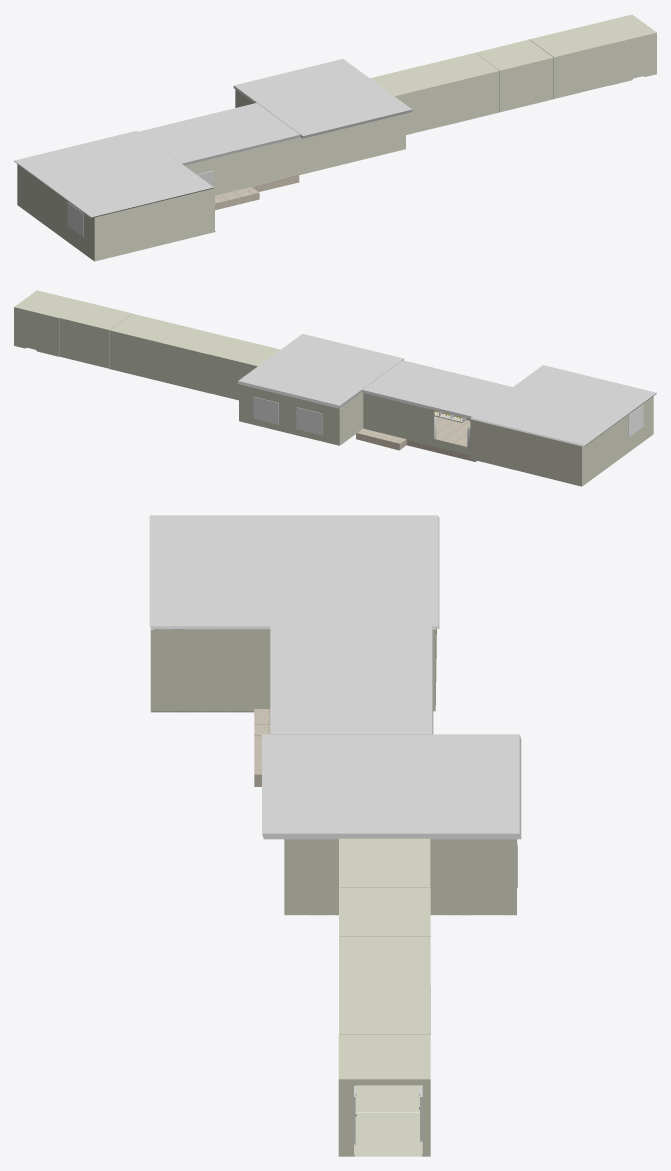
The picture shows the model from 3 angles, top to bottom: view 1: azimuth 30°, elevation 25°; view 2: azimuth 150°, elevation 25°; view 3: azimuth 270°, elevation 25°; orthographic projection. The views are drawn at different scales.
Parts seen in each view (by area): view 1: Plane.007, Plane.003, Plane.010, Plane.009, Plane.006, Cube.169, Cube.174, Cube.179, Plane, Cube.160, Cube.184, Cube.213 (+2 smaller); view 2: Plane.007, Plane.003, Plane.010, Plane.009, Plane.006, Cube.169, Cube.179, Cube.174, Plane, Cube.160, Cube.184, Cube.213 (+4 smaller); view 3: Plane.007, Plane.010, Plane.009, Plane.006, Plane.003, Cube.160, Cube.169, Cube.184, Cube.174, Cube.179.
Part boxes in pixels (x1=…): Plane.007: x1=14, y1=131, x2=213, y2=218; Plane.003: x1=17, y1=164, x2=214, y2=261; Plane.010: x1=233, y1=59, x2=412, y2=138; Plane.009: x1=138, y1=103, x2=300, y2=165; Plane.006: x1=235, y1=89, x2=405, y2=174; Cube.169: x1=529, y1=26, x2=607, y2=98; Cube.174: x1=475, y1=39, x2=553, y2=112; Cube.179: x1=422, y1=53, x2=499, y2=125; Plane: x1=185, y1=138, x2=297, y2=195; Cube.160: x1=584, y1=14, x2=656, y2=85; Cube.184: x1=370, y1=66, x2=445, y2=134; Cube.213: x1=215, y1=187, x2=259, y2=210; Plane.007: x1=470, y1=365, x2=656, y2=446; Plane.003: x1=470, y1=396, x2=653, y2=486; Plane.010: x1=237, y1=334, x2=403, y2=408; Plane.009: x1=361, y1=360, x2=512, y2=418; Plane.006: x1=239, y1=384, x2=363, y2=445; Cube.169: x1=59, y1=301, x2=132, y2=368; Cube.179: x1=160, y1=326, x2=232, y2=393; Cube.174: x1=110, y1=313, x2=182, y2=381; Plane: x1=363, y1=393, x2=470, y2=454; Cube.160: x1=14, y1=290, x2=81, y2=356; Cube.184: x1=210, y1=338, x2=280, y2=400; Cube.213: x1=406, y1=417, x2=476, y2=461; Plane.007: x1=149, y1=515, x2=439, y2=628; Plane.010: x1=262, y1=734, x2=521, y2=839; Plane.009: x1=270, y1=626, x2=433, y2=734; Plane.006: x1=284, y1=839, x2=516, y2=914; Plane.003: x1=150, y1=628, x2=436, y2=711; Cube.160: x1=338, y1=1035, x2=430, y2=1156; Cube.169: x1=339, y1=985, x2=430, y2=1111; Cube.184: x1=339, y1=838, x2=430, y2=887; Cube.174: x1=339, y1=937, x2=430, y2=1034; Cube.179: x1=339, y1=888, x2=430, y2=936.
Bounding box in the file's own units: 5604 × 440 × 1576.
